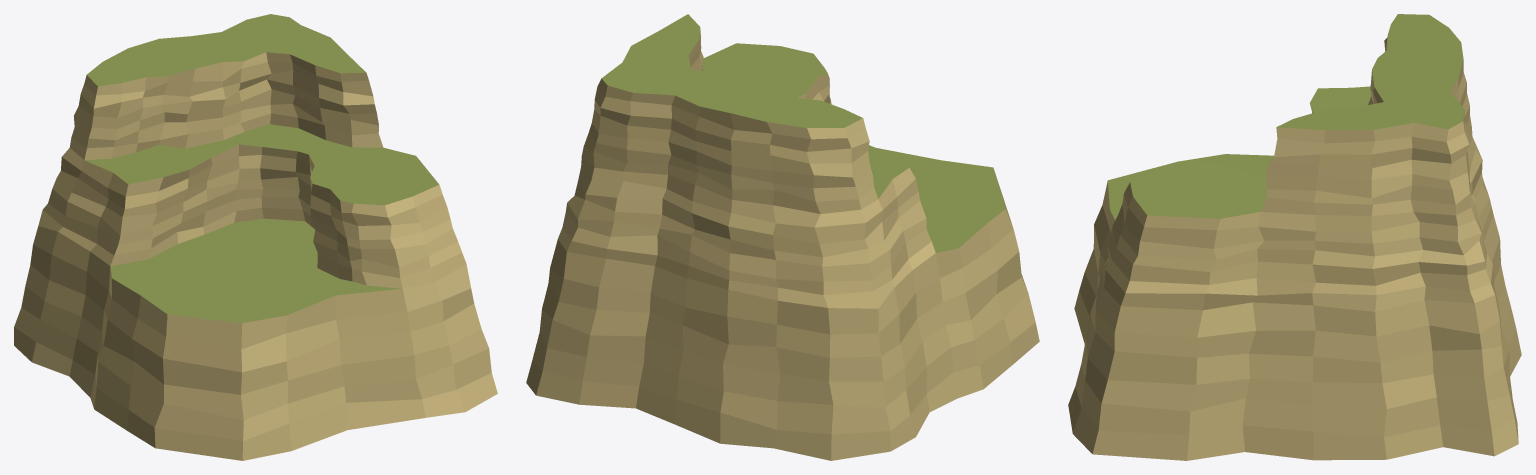
Rendered from cliff.fbx.
3 renders of one model, left to right at view 1: azimuth 30°, elevation 25°; view 2: azimuth 150°, elevation 25°; view 3: azimuth 270°, elevation 25°, orthographic. The views are drawn at different scales.
Visible parts, largest first — view 1: Plane; view 2: Plane; view 3: Plane.
Boxes of the visible parts, left/top/right/bottom form: Plane: left=14, top=14, right=497, bottom=460; Plane: left=526, top=14, right=1039, bottom=460; Plane: left=1068, top=14, right=1521, bottom=460.
Bounding box in the file's own units: 135 × 109 × 145.
